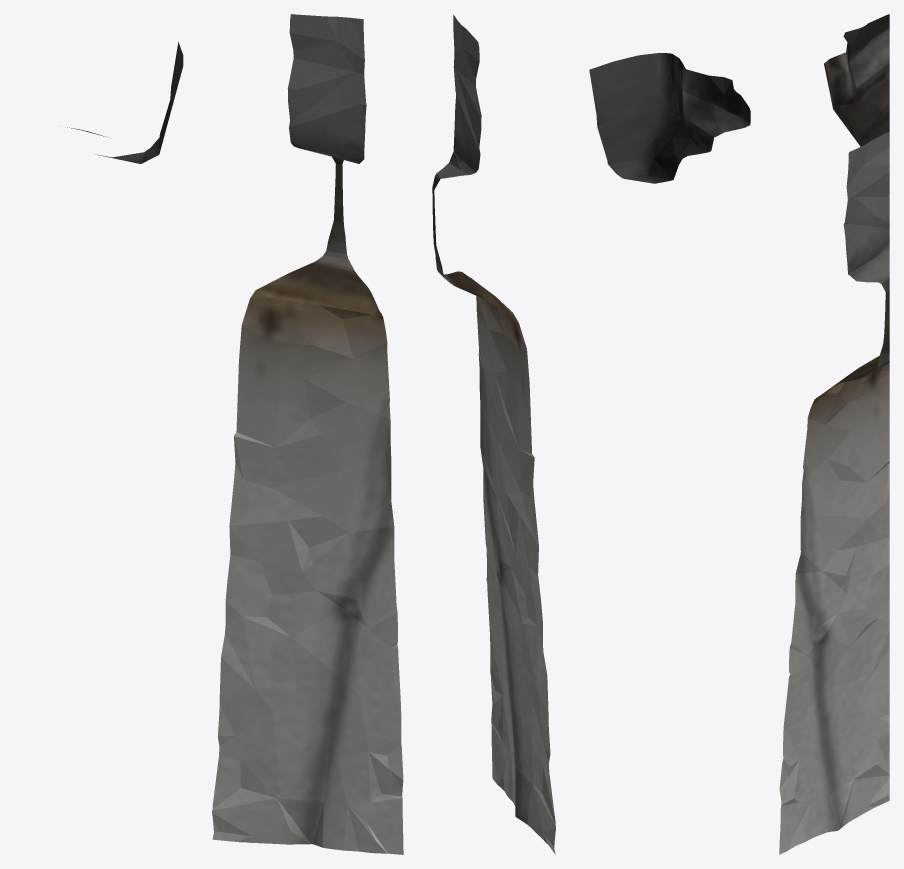
3 renders of one model, left to right at view 1: azimuth 30°, elevation 25°; view 2: azimuth 150°, elevation 25°; view 3: azimuth 270°, elevation 25°, orthographic. The views are drawn at different scales.
Bounding box in the file's own units: 0.3539 × 0.8374 × 0.1193.
1 material, 1 textured.
